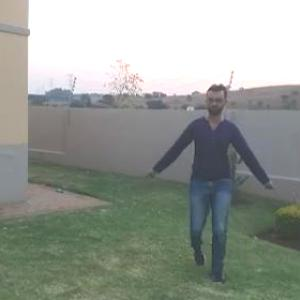land: (154, 82, 286, 286)
